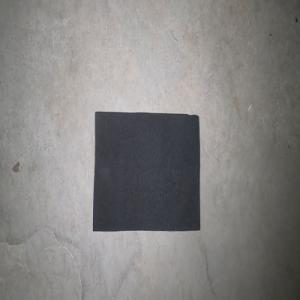PaintChip: (92, 111, 200, 231)
